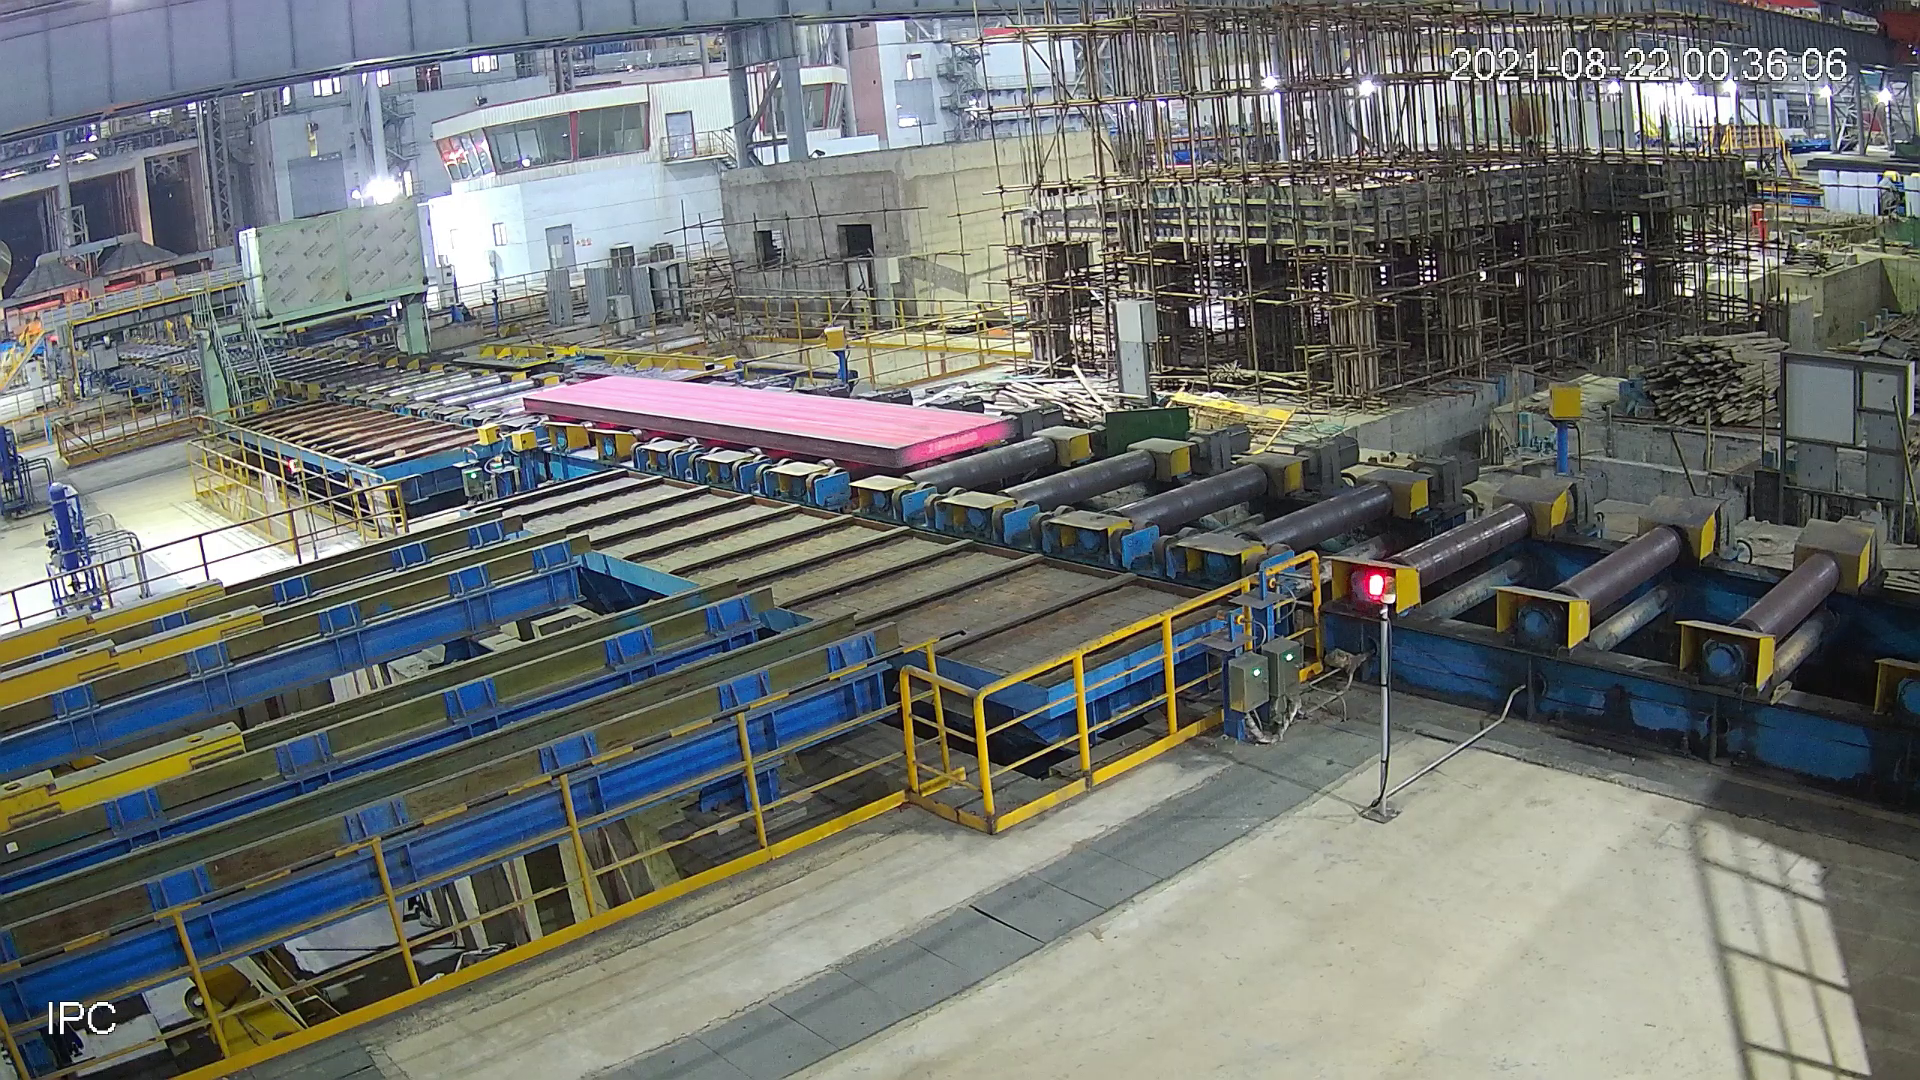slab: (516, 368, 1017, 471)
